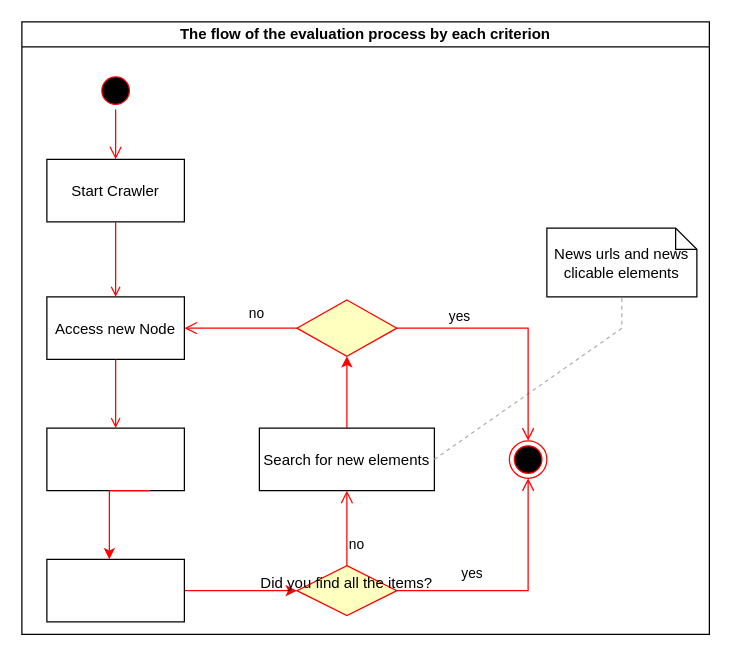
The diagram is 731 pixels wide and 656 high, and some of its shapes have lost their labels. Here are the shapes that lost their labels. From the top down, the centre of each, then its label:
the point at 346,327: queue empty?
the point at 115,459: Creates queries
the point at 115,590: Search items
